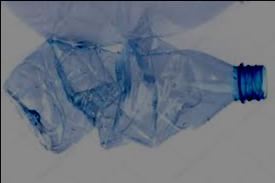Plastic: (1, 26, 268, 156)
